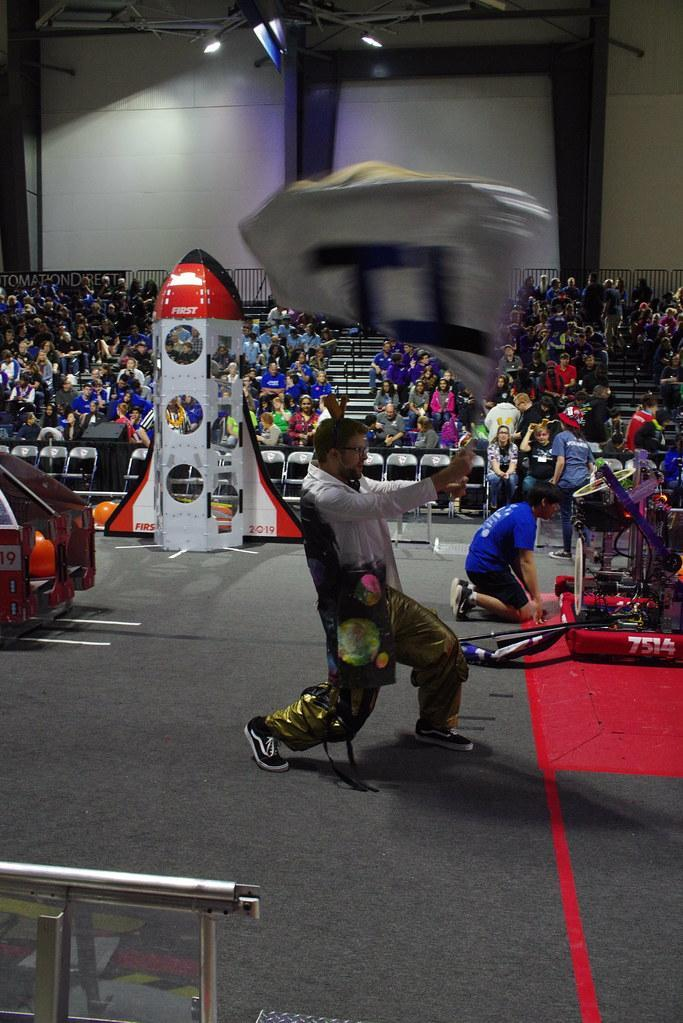robot: (548, 428, 683, 608), (556, 484, 683, 672)
